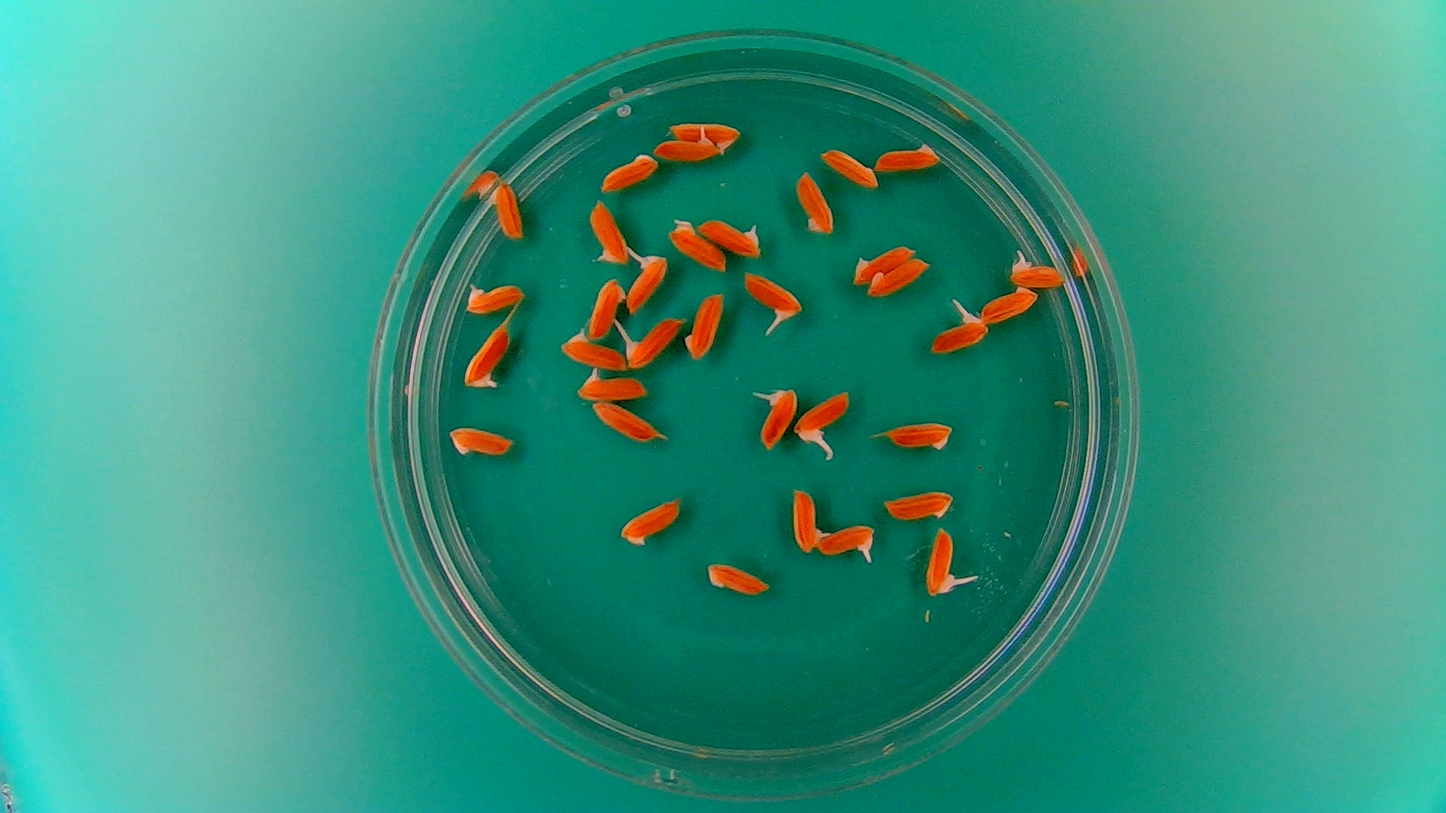no: (614, 497, 695, 547), (587, 400, 666, 444), (667, 218, 727, 273), (700, 556, 776, 599), (682, 286, 725, 362), (586, 196, 632, 266), (792, 166, 837, 236), (874, 416, 956, 454), (854, 241, 922, 285), (867, 255, 933, 299), (879, 486, 956, 523), (817, 145, 880, 190), (557, 330, 627, 370), (597, 149, 660, 193), (448, 419, 523, 455), (585, 276, 627, 340), (873, 139, 943, 174), (980, 284, 1040, 323), (490, 177, 525, 243), (669, 120, 743, 148)
yes: (740, 268, 804, 331), (617, 313, 687, 367), (462, 319, 514, 391), (793, 387, 851, 450), (929, 303, 988, 357), (624, 248, 670, 317), (696, 215, 764, 257), (573, 368, 651, 403), (757, 382, 799, 447), (812, 521, 874, 561), (923, 524, 955, 598), (463, 279, 527, 316), (787, 491, 821, 556), (654, 134, 717, 163), (1007, 260, 1064, 288)
